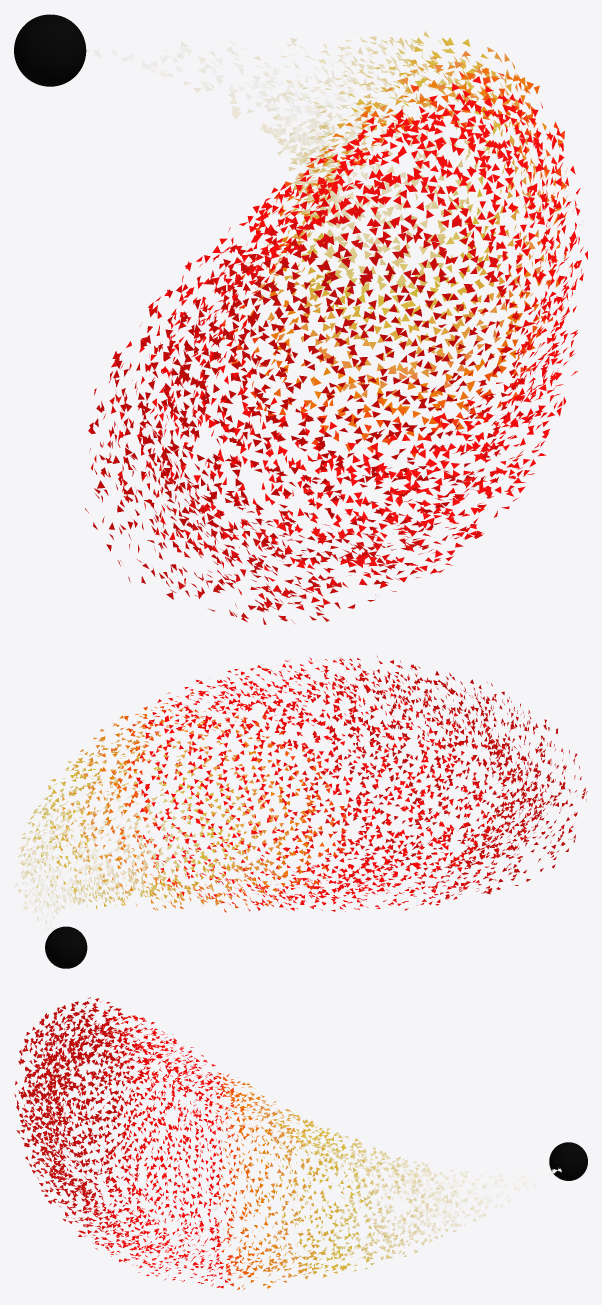
Rendered from BlackHole.glb.
The picture shows the model from 3 angles, top to bottom: view 1: azimuth 30°, elevation 25°; view 2: azimuth 150°, elevation 25°; view 3: azimuth 270°, elevation 25°; orthographic projection. The views are drawn at different scales.
Bounding box in the file's own units: 6.38 × 3.82 × 8.89.
